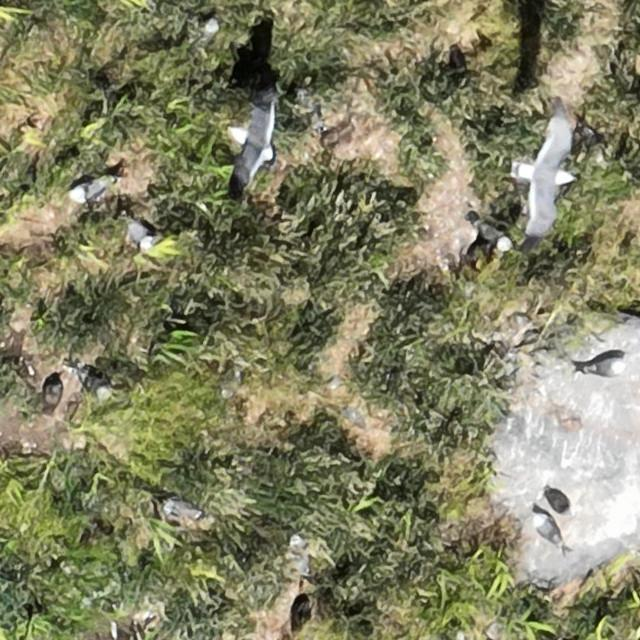F: (523, 123, 577, 232), (226, 94, 282, 196)
umineko: (476, 219, 515, 253), (290, 534, 313, 573), (80, 371, 110, 397), (71, 180, 108, 201), (585, 358, 621, 376), (168, 499, 202, 518), (126, 221, 150, 247), (535, 514, 558, 541)
